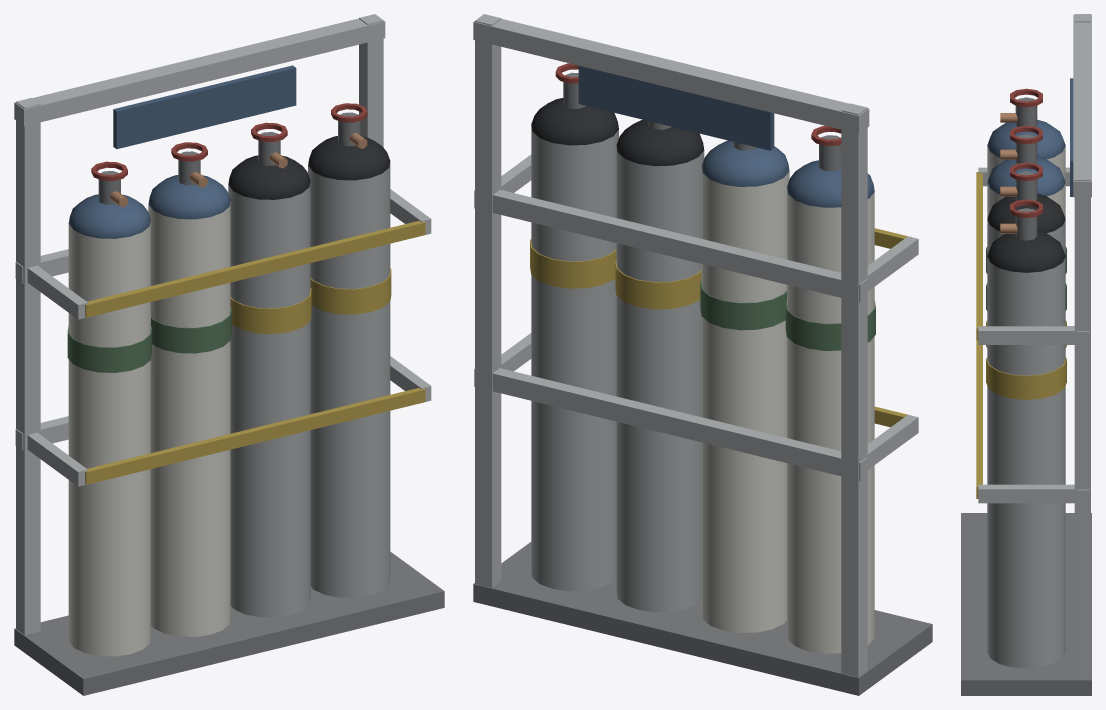
Rendered from astro_bottle_rack.fbx.
The picture shows the model from 3 angles, left to right: view 1: azimuth 30°, elevation 25°; view 2: azimuth 150°, elevation 25°; view 3: azimuth 270°, elevation 25°; orthographic projection. The views are drawn at different scales.
Parts seen in each view (by area): view 1: BottleRack_Body; view 2: BottleRack_Body; view 3: BottleRack_Body.
Boxes of the visible parts, bbox=[...] form: BottleRack_Body: bbox=[14, 14, 444, 695]; BottleRack_Body: bbox=[473, 14, 932, 695]; BottleRack_Body: bbox=[961, 14, 1091, 695].
Bounding box in the file's own units: 181 × 261 × 60.
